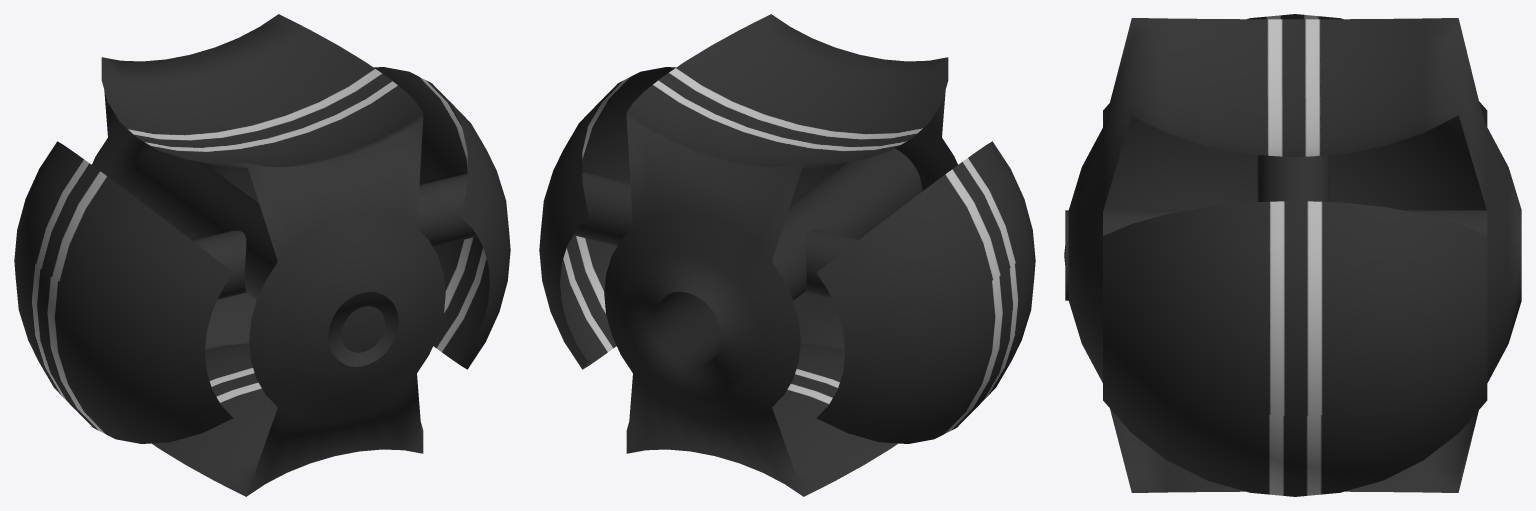
The model's file is eyeDrone.fbx.
The picture shows the model from 3 angles, left to right: view 1: azimuth 30°, elevation 25°; view 2: azimuth 150°, elevation 25°; view 3: azimuth 270°, elevation 25°; orthographic projection. The views are drawn at different scales.
Parts seen in each view (by area): view 1: Sphere.012; view 2: Sphere.012; view 3: Sphere.012.
Part boxes in pixels (x1=…): Sphere.012: x1=14, y1=14, x2=510, y2=496; Sphere.012: x1=539, y1=14, x2=1035, y2=496; Sphere.012: x1=1064, y1=14, x2=1521, y2=496.
Bounding box in the file's own units: 142 × 103 × 113.
